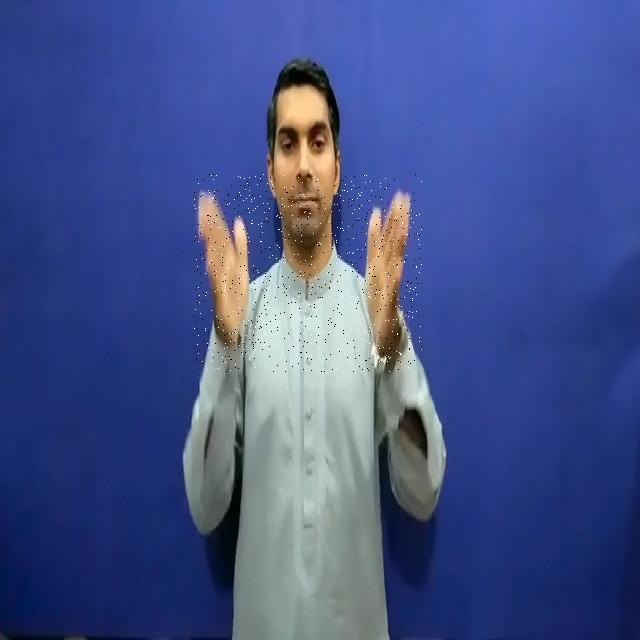manager: (194, 174, 422, 372)
